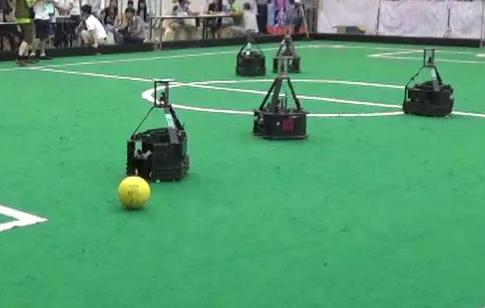robot: (116, 74, 197, 182), (395, 39, 462, 121), (250, 53, 311, 141)
